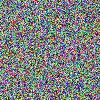car: (14, 17, 29, 34)
